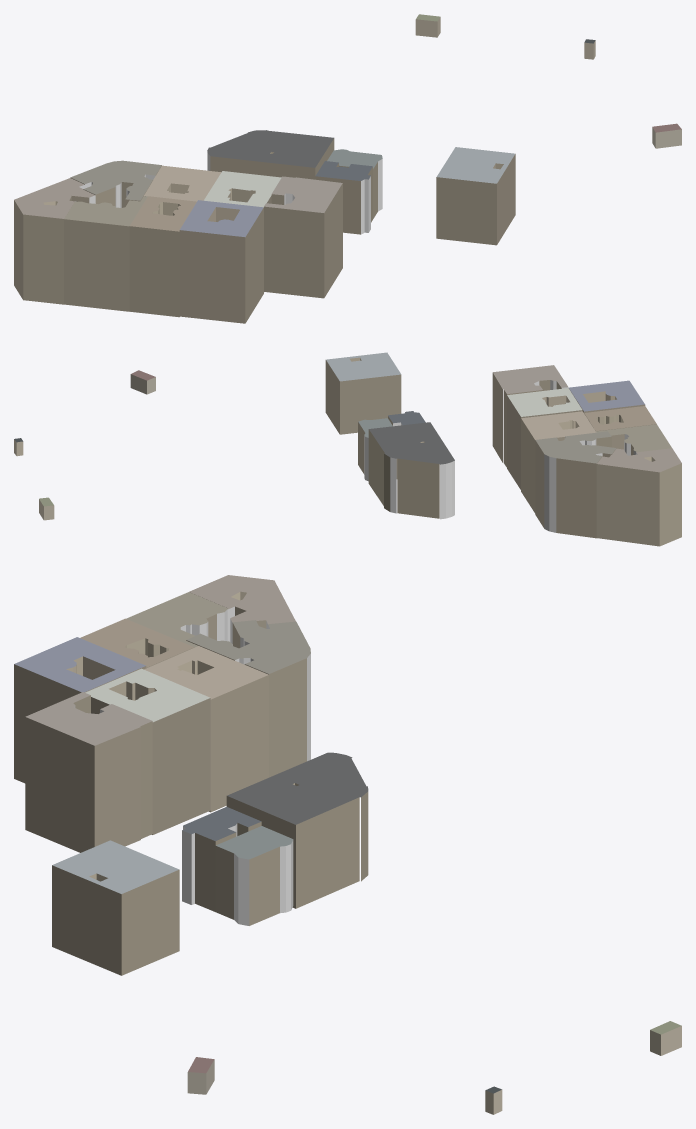
3 renders of one model, top to bottom at view 1: azimuth 30°, elevation 25°; view 2: azimuth 150°, elevation 25°; view 3: azimuth 270°, elevation 25°, orthographic. The views are drawn at different scales.
Parts seen in each view (by area): view 1: tuile; view 2: tuile; view 3: tuile.
Part boxes in pixels (bbox=[...]): tuile: bbox=[14, 14, 681, 323]; tuile: bbox=[14, 352, 681, 546]; tuile: bbox=[14, 575, 681, 1114].
Size of the model in its own units: 212 by 27.06 by 137.
